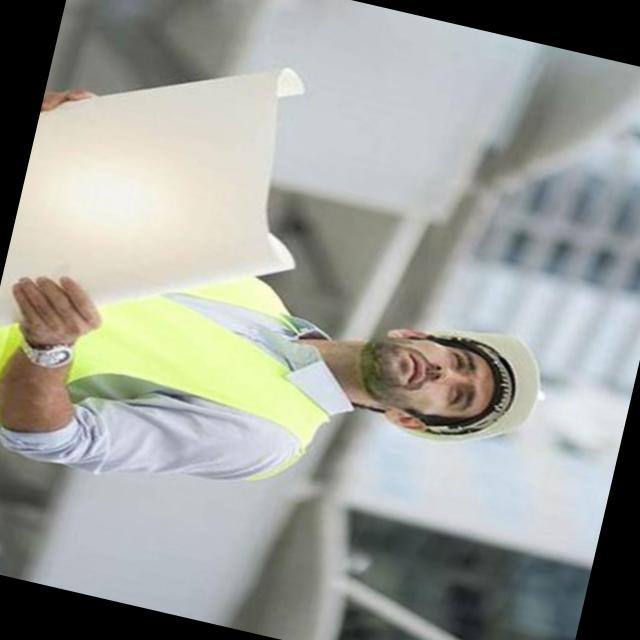not-gloved: (0, 266, 110, 359)
